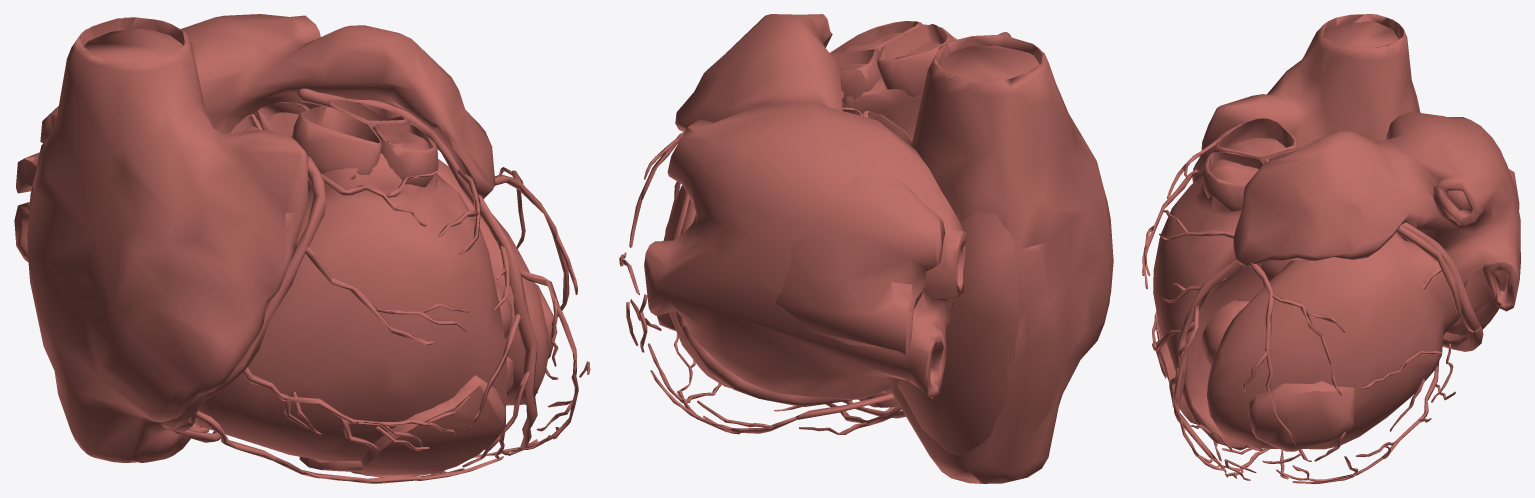
File: heart.glb
3 views of the same model, side by side, from view 1: azimuth 30°, elevation 25°; view 2: azimuth 150°, elevation 25°; view 3: azimuth 270°, elevation 25° (orthographic). The views are drawn at different scales.
Visible parts, largest first — view 1: heart; view 2: heart; view 3: heart.
Part boxes in pixels (x1,y1,x2,y2): heart: [14, 14, 590, 483]; heart: [619, 14, 1113, 483]; heart: [1142, 14, 1520, 483].
Bounding box in the file's own units: 0.1154 × 0.1046 × 0.1059.
